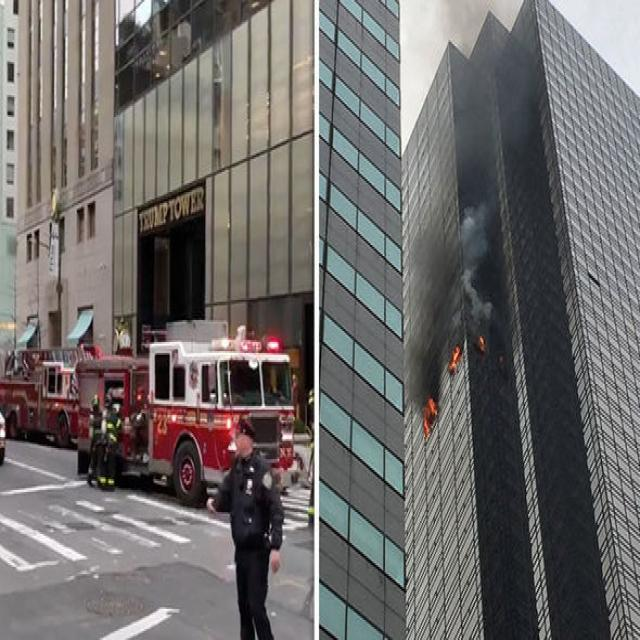Fire: (429, 397, 436, 414)
Smoke: (462, 203, 488, 264)
